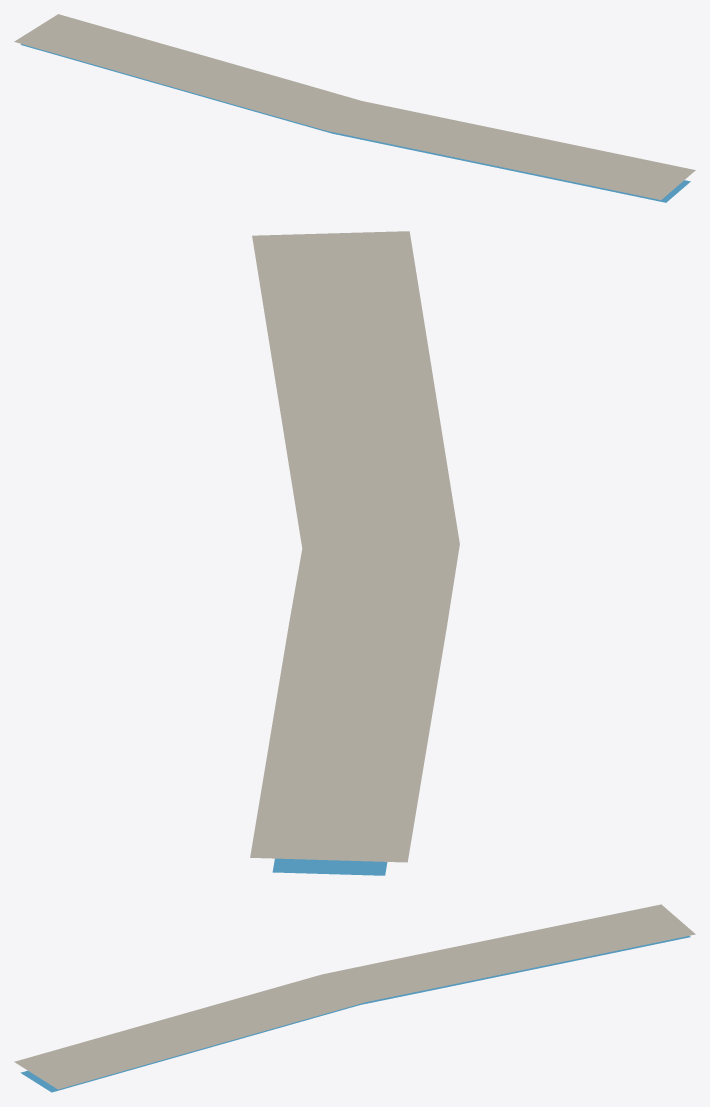
3 renders of one model, top to bottom at view 1: azimuth 30°, elevation 25°; view 2: azimuth 150°, elevation 25°; view 3: azimuth 270°, elevation 25°, orthographic. The views are drawn at different scales.
Parts seen in each view (by area): view 1: estructura_terreno, estructura_agua; view 2: estructura_terreno, estructura_agua; view 3: estructura_terreno, estructura_agua.
Part boxes in pixels (x1=…): estructura_terreno: x1=14, y1=14, x2=695, y2=199; estructura_agua: x1=20, y1=44, x2=690, y2=202; estructura_terreno: x1=250, y1=231, x2=459, y2=862; estructura_agua: x1=272, y1=858, x2=387, y2=875; estructura_terreno: x1=14, y1=904, x2=695, y2=1089; estructura_agua: x1=20, y1=935, x2=690, y2=1092.
Bounding box in the file's own units: 23.3 × 0.41 × 36.26.
